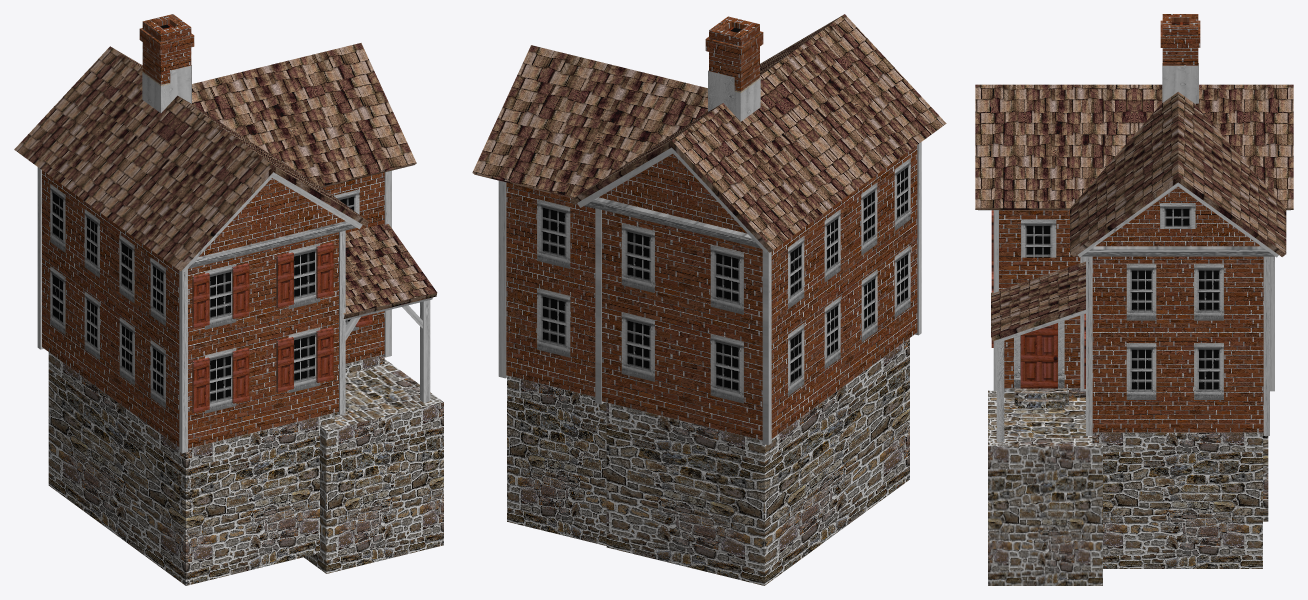
File: brit_house_3.dae
3 renders of one model, left to right at view 1: azimuth 30°, elevation 25°; view 2: azimuth 150°, elevation 25°; view 3: azimuth 270°, elevation 25°, orthographic. The views are drawn at different scales.
Parts seen in each view (by area): view 1: BRITHouse3; view 2: BRITHouse3; view 3: BRITHouse3.
Part boxes in pixels (x1,y1,x2,y2): BRITHouse3: [14, 14, 443, 585]; BRITHouse3: [472, 14, 946, 585]; BRITHouse3: [975, 14, 1293, 585].
Bounding box in the file's own units: 16.04 × 15.75 × 26.19.
